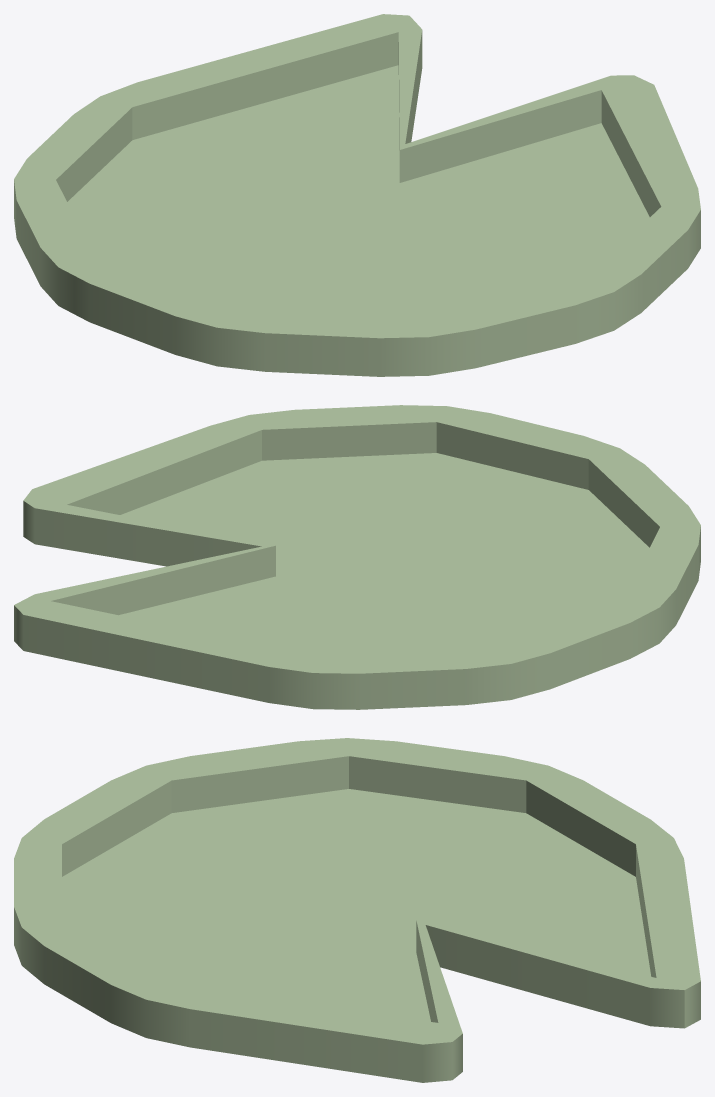
The model's file is Lilypad.fbx.
3 views of the same model, one above another, from view 1: azimuth 30°, elevation 25°; view 2: azimuth 150°, elevation 25°; view 3: azimuth 270°, elevation 25° (orthographic). The views are drawn at different scales.
Parts seen in each view (by area): view 1: pasted__pCylinder1; view 2: pasted__pCylinder1; view 3: pasted__pCylinder1.
Part boxes in pixels (bbox=[...]): pasted__pCylinder1: bbox=[14, 14, 700, 376]; pasted__pCylinder1: bbox=[14, 405, 700, 709]; pasted__pCylinder1: bbox=[14, 738, 700, 1082].
Bounding box in the file's own units: 2.07 × 0.1207 × 1.96.
